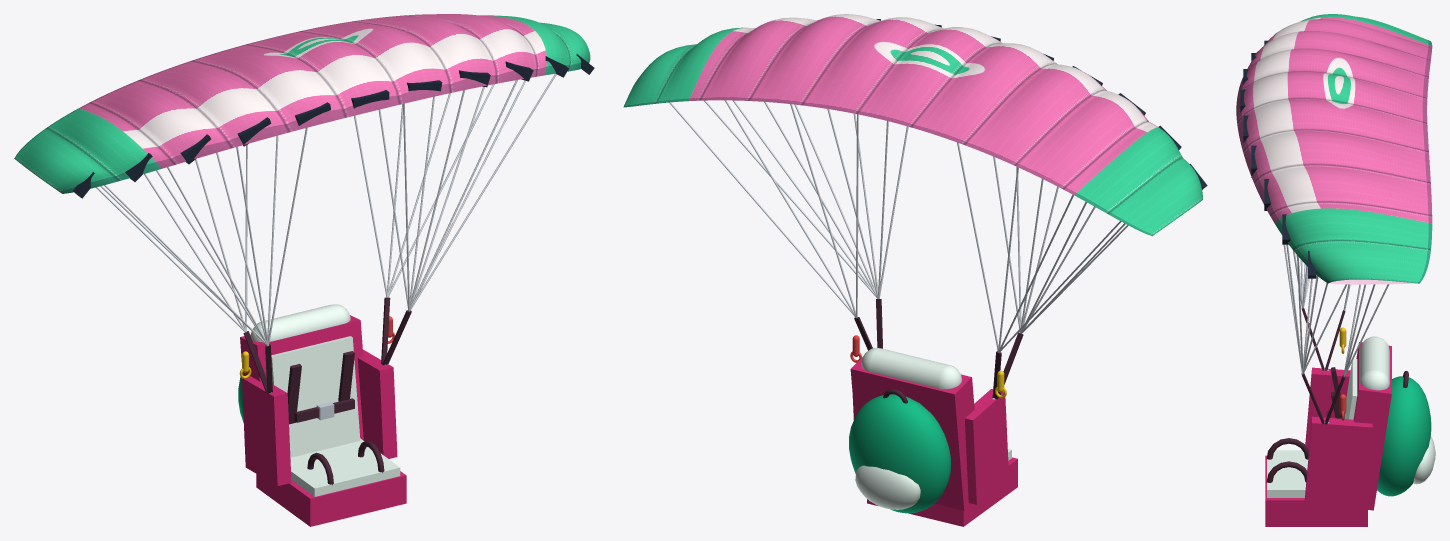
The model's file is glider.glb.
3 renders of one model, left to right at view 1: azimuth 30°, elevation 25°; view 2: azimuth 150°, elevation 25°; view 3: azimuth 270°, elevation 25°, orthographic. The views are drawn at different scales.
Visible parts, largest first — view 1: Canopy_Upper_Skin, Seat_Back_Cushion, Seat_Side_Wing_Left, Seat_Bottom_Base, Seat_Soft_Pad, Seat_Side_Wing_Right, Seat_High_Backrest, Seat_Headrest, Line_Right_A4; view 2: Canopy_Upper_Skin, Rear_Reserve_Backpack, Seat_High_Backrest, Seat_Side_Wing_Left, Seat_Headrest, Seat_Bottom_Base, Line_Right_C4; view 3: Canopy_Upper_Skin, Seat_Side_Wing_Right, Rear_Reserve_Backpack, Seat_High_Backrest, Seat_Bottom_Base, Seat_Soft_Pad, Seat_Headrest, Seat_Side_Wing_Left, Seat_Back_Cushion, Canopy_Lower_Skin, Leg_Loop_Left, Leg_Loop_Right (+2 smaller).
Part boxes in pixels (<box>): Canopy_Upper_Skin: <box>14,14,590,193</box>; Seat_Back_Cushion: <box>271,336,360,457</box>; Seat_Side_Wing_Left: <box>242,376,291,485</box>; Seat_Bottom_Base: <box>256,471,406,526</box>; Seat_Soft_Pad: <box>290,438,400,496</box>; Seat_Side_Wing_Right: <box>357,349,397,458</box>; Seat_High_Backrest: <box>240,315,363,440</box>; Seat_Headrest: <box>250,304,350,342</box>; Line_Right_A4: <box>410,73,556,310</box>; Canopy_Upper_Skin: <box>623,14,1202,236</box>; Rear_Reserve_Backpack: <box>849,389,950,513</box>; Seat_High_Backrest: <box>850,357,974,510</box>; Seat_Side_Wing_Left: <box>965,389,1008,504</box>; Seat_Headrest: <box>861,348,961,389</box>; Seat_Bottom_Base: <box>867,457,1017,526</box>; Line_Right_C4: <box>669,102,856,318</box>; Canopy_Upper_Skin: <box>1236,14,1432,283</box>; Seat_Side_Wing_Right: <box>1304,416,1372,509</box>; Rear_Reserve_Backpack: <box>1377,371,1435,496</box>; Seat_High_Backrest: <box>1353,342,1391,510</box>; Seat_Bottom_Base: <box>1265,455,1367,526</box>; Seat_Soft_Pad: <box>1267,450,1308,497</box>; Seat_Headrest: <box>1360,336,1389,390</box>; Seat_Side_Wing_Left: <box>1305,367,1350,449</box>; Seat_Back_Cushion: <box>1344,358,1357,419</box>; Canopy_Lower_Skin: <box>1328,279,1417,284</box>; Leg_Loop_Left: <box>1266,438,1308,459</box>; Leg_Loop_Right: <box>1266,461,1307,482</box>.
Bounding box in the file's own units: 4.33 × 3.42 × 1.44.
11 materials, 1 textured.
